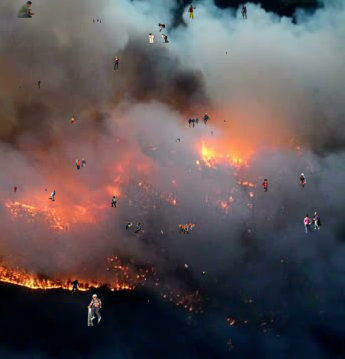Human: (188, 111, 215, 129), (299, 212, 322, 233), (87, 294, 102, 326), (15, 1, 35, 18), (174, 222, 197, 234), (149, 33, 169, 44), (69, 279, 81, 295), (126, 222, 141, 233), (299, 173, 306, 194), (76, 157, 87, 170), (188, 5, 196, 20), (260, 179, 268, 192), (113, 56, 119, 72), (226, 339, 234, 351), (241, 4, 247, 20), (48, 190, 56, 202), (111, 196, 119, 208), (181, 263, 188, 274), (158, 23, 166, 32), (69, 116, 76, 124), (93, 19, 101, 23), (201, 271, 207, 275), (38, 81, 41, 89), (14, 186, 17, 194), (175, 138, 180, 142), (43, 287, 46, 291), (211, 131, 213, 136), (161, 230, 163, 234), (19, 86, 21, 90), (223, 120, 226, 122), (45, 189, 47, 192), (212, 273, 213, 277), (235, 326, 237, 328), (148, 300, 149, 303), (226, 52, 227, 55), (293, 155, 294, 157), (145, 278, 146, 280)
